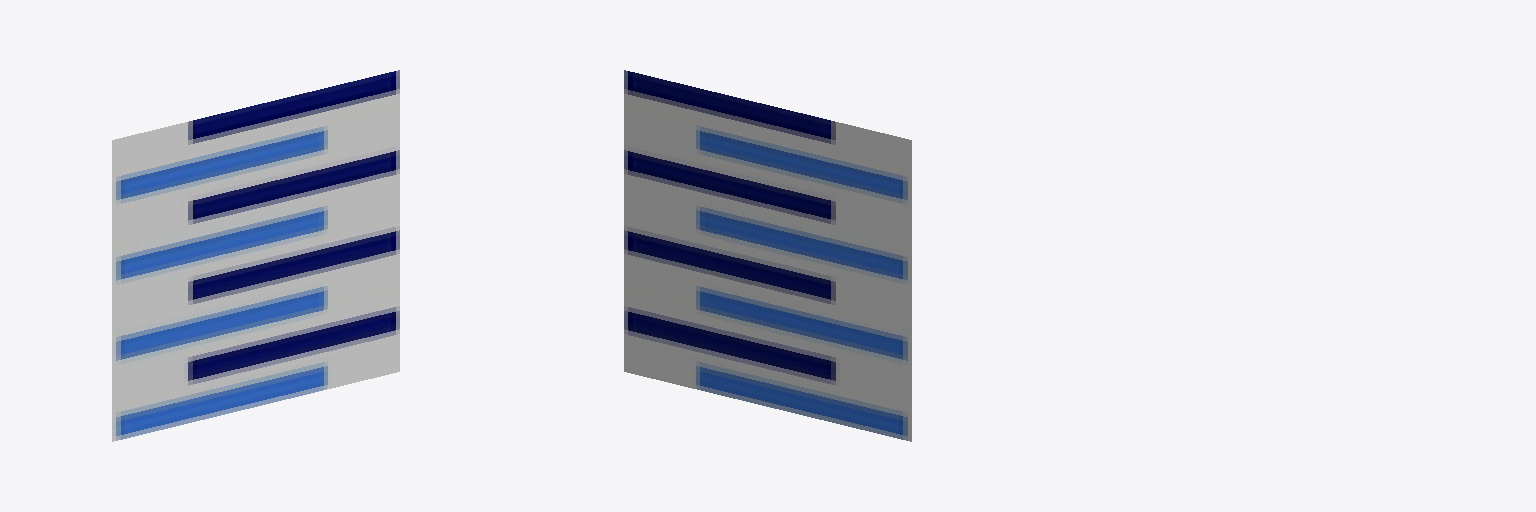
The picture shows the model from 3 angles: view 1: azimuth 30°, elevation 25°; view 2: azimuth 150°, elevation 25°; view 3: azimuth 270°, elevation 25°; orthographic projection.
Bounding box in the file's own units: 1 × 1 × 0.
Materials: 1 (1 with a texture image).